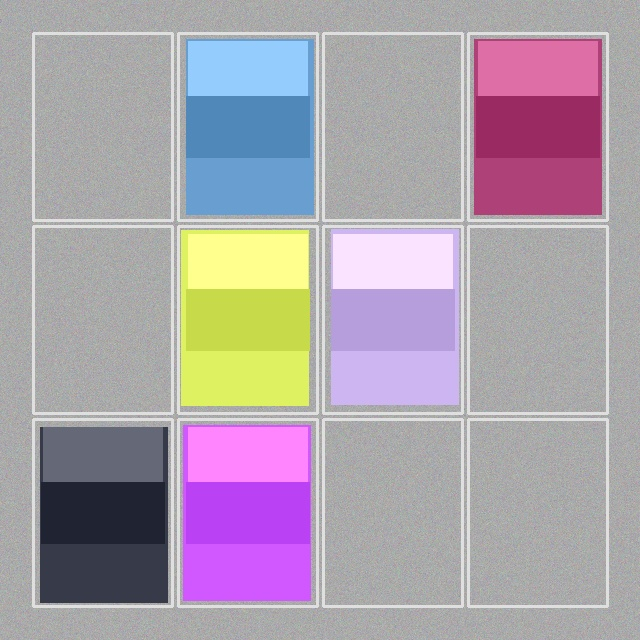space-empty: (35, 35, 170, 218), (325, 35, 460, 218), (35, 228, 170, 411), (470, 228, 605, 411), (325, 421, 460, 604), (470, 421, 605, 604)
space-occupied: (180, 35, 315, 218), (470, 35, 605, 218), (180, 228, 315, 411), (325, 228, 460, 411), (35, 421, 170, 604), (180, 421, 315, 604)
